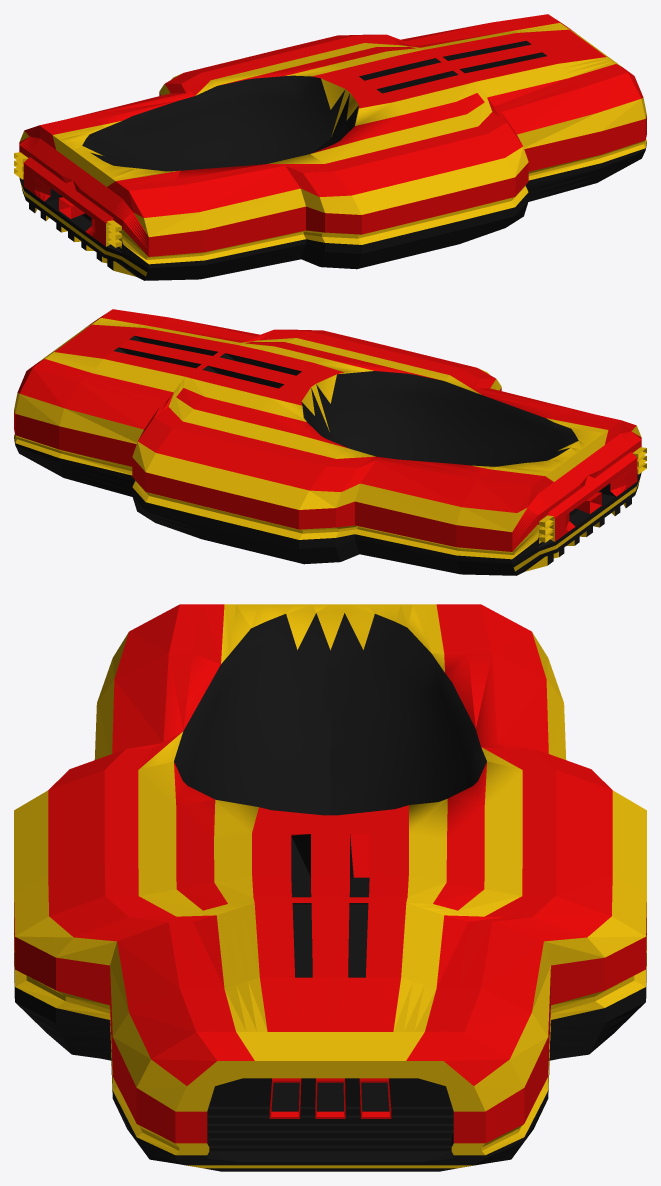
File: Cowl.01.body.glb
3 views of the same model, one above another, from view 1: azimuth 30°, elevation 25°; view 2: azimuth 150°, elevation 25°; view 3: azimuth 270°, elevation 25° (orthographic). The views are drawn at different scales.
Visible parts, largest first — view 1: Body; view 2: Body; view 3: Body.
Boxes of the visible parts, bbox=[...] form: Body: bbox=[14, 14, 646, 280]; Body: bbox=[14, 309, 646, 575]; Body: bbox=[14, 604, 646, 1171].
Size of what is drawn, in the model's own units: 4.23 by 0.7388 by 2.55.
